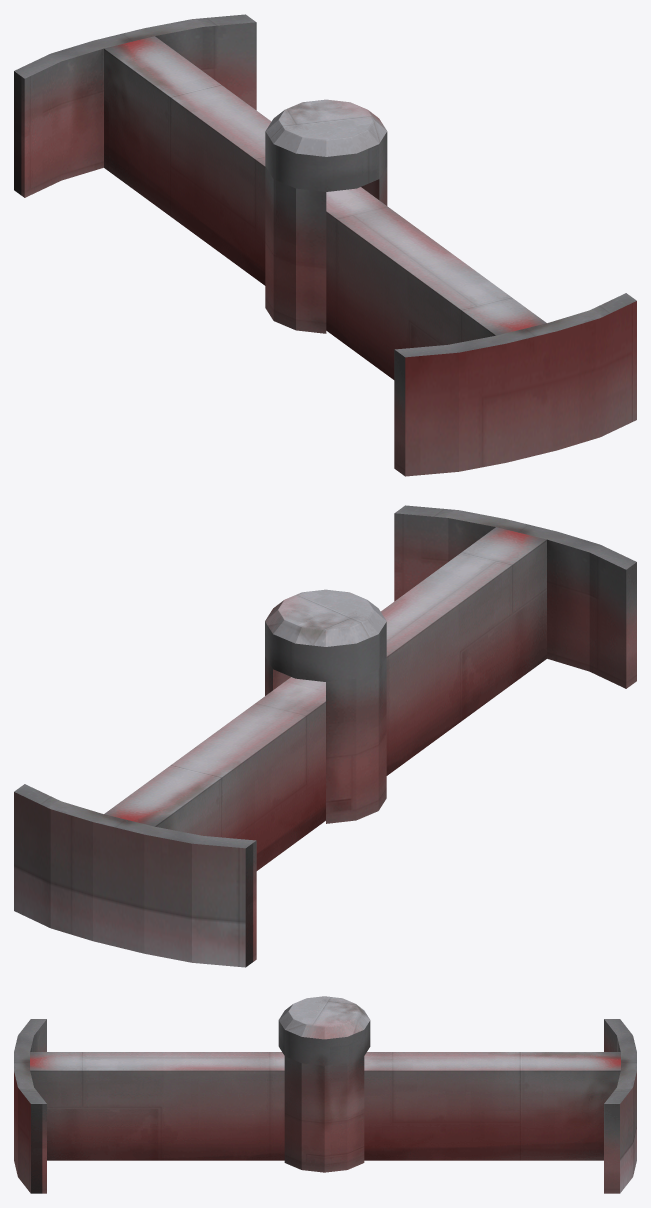
File: OBJ_NukeTub_anim.FBX
3 views of the same model, one above another, from view 1: azimuth 30°, elevation 25°; view 2: azimuth 150°, elevation 25°; view 3: azimuth 270°, elevation 25° (orthographic). The views are drawn at different scales.
Parts seen in each view (by area): view 1: OBJ_NukeTub_anim; view 2: OBJ_NukeTub_anim; view 3: OBJ_NukeTub_anim.
Part boxes in pixels (x1=…): OBJ_NukeTub_anim: x1=14, y1=14, x2=636, y2=476; OBJ_NukeTub_anim: x1=14, y1=505, x2=636, y2=967; OBJ_NukeTub_anim: x1=14, y1=996, x2=636, y2=1193.
Size of the model in its own units: 1.59 by 1.23 by 4.91.
1 material, 1 textured.
